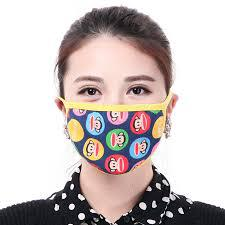OK: (65, 68, 163, 175)
